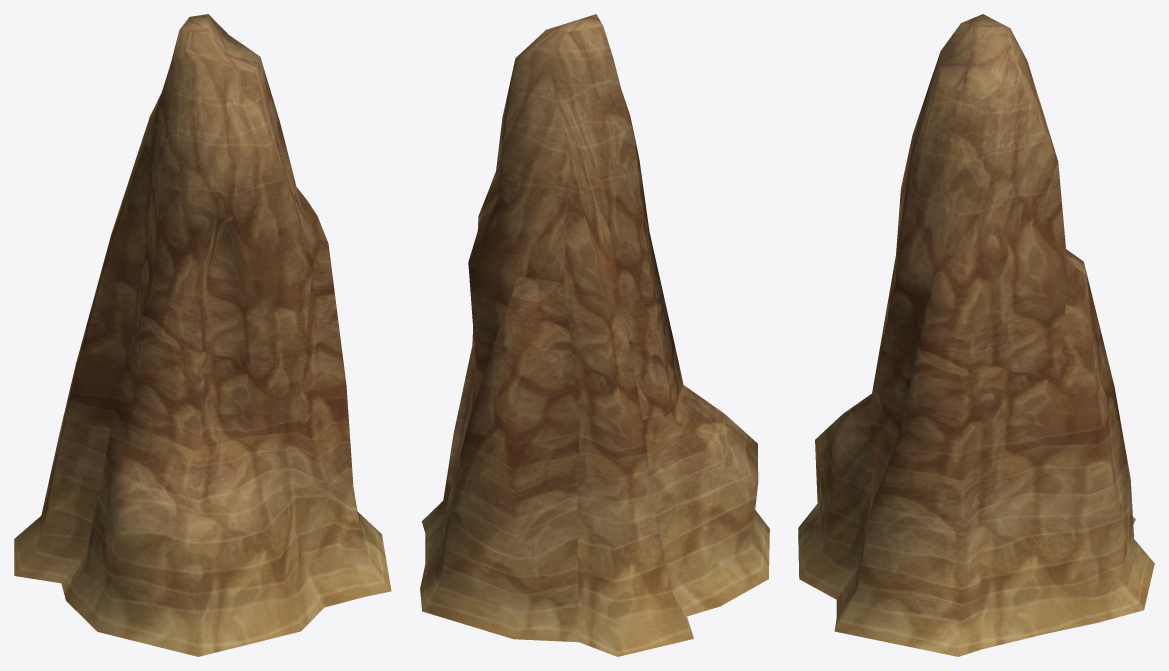
Rendered from desert spike rock.FBX.
3 views of the same model, side by side, from view 1: azimuth 30°, elevation 25°; view 2: azimuth 150°, elevation 25°; view 3: azimuth 270°, elevation 25° (orthographic).
Parts seen in each view (by area): view 1: desert spike rock; view 2: desert spike rock; view 3: desert spike rock.
Boxes of the visible parts, x1,y1,x2,y2 form: desert spike rock: (14,14,391,656); desert spike rock: (420,14,769,656); desert spike rock: (798,14,1154,656).
Size of the model in its own units: 12.02 by 19.64 by 11.55.
